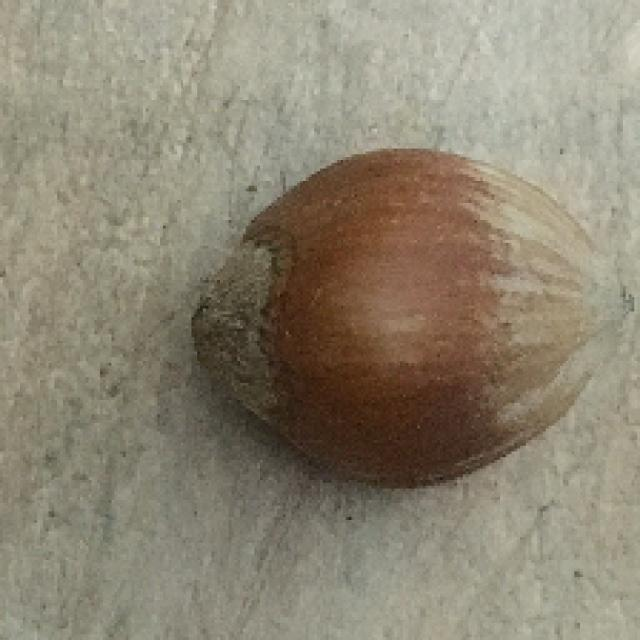QualityHazelnut: (192, 146, 635, 489)
